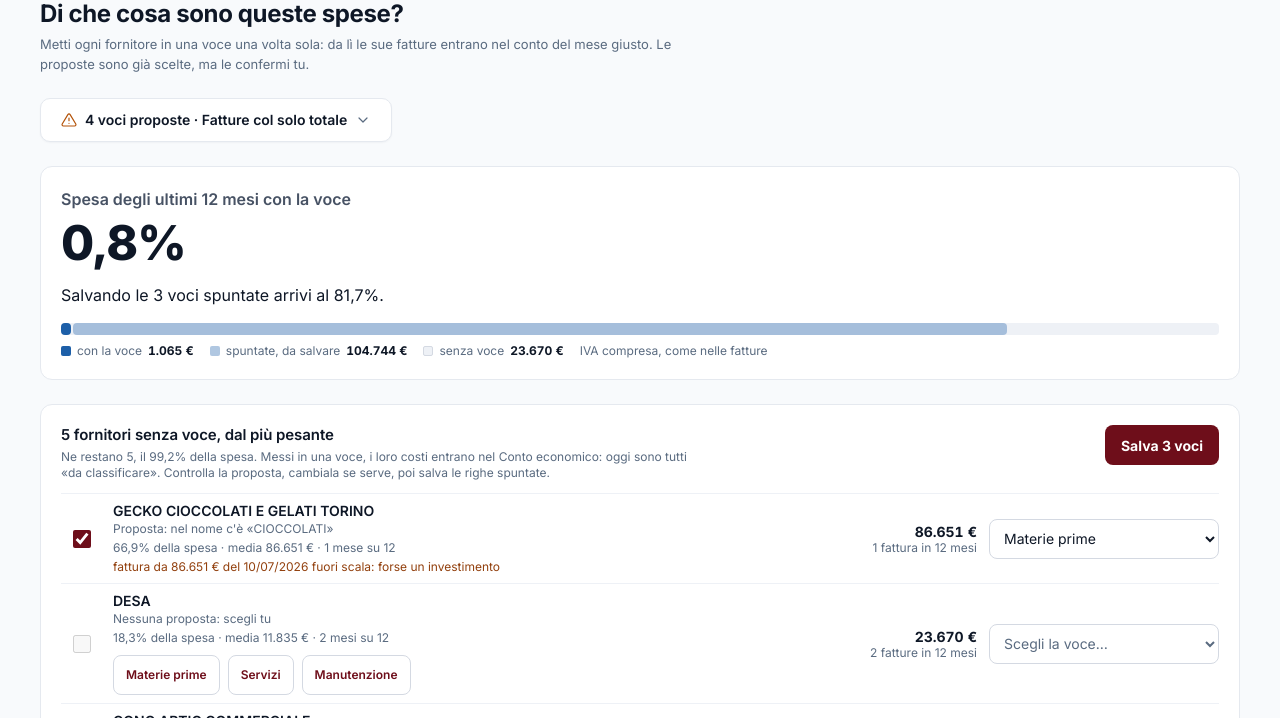
Test: ClassificaSpese: i fornitori senza voce › salva le voci spuntate: prima nell'archivio, poi lo schermo
Select "Materie prime" in the dropdown named "Voce di spesa di DESA SRL" at (1104, 644), box [989,624,1219,664]
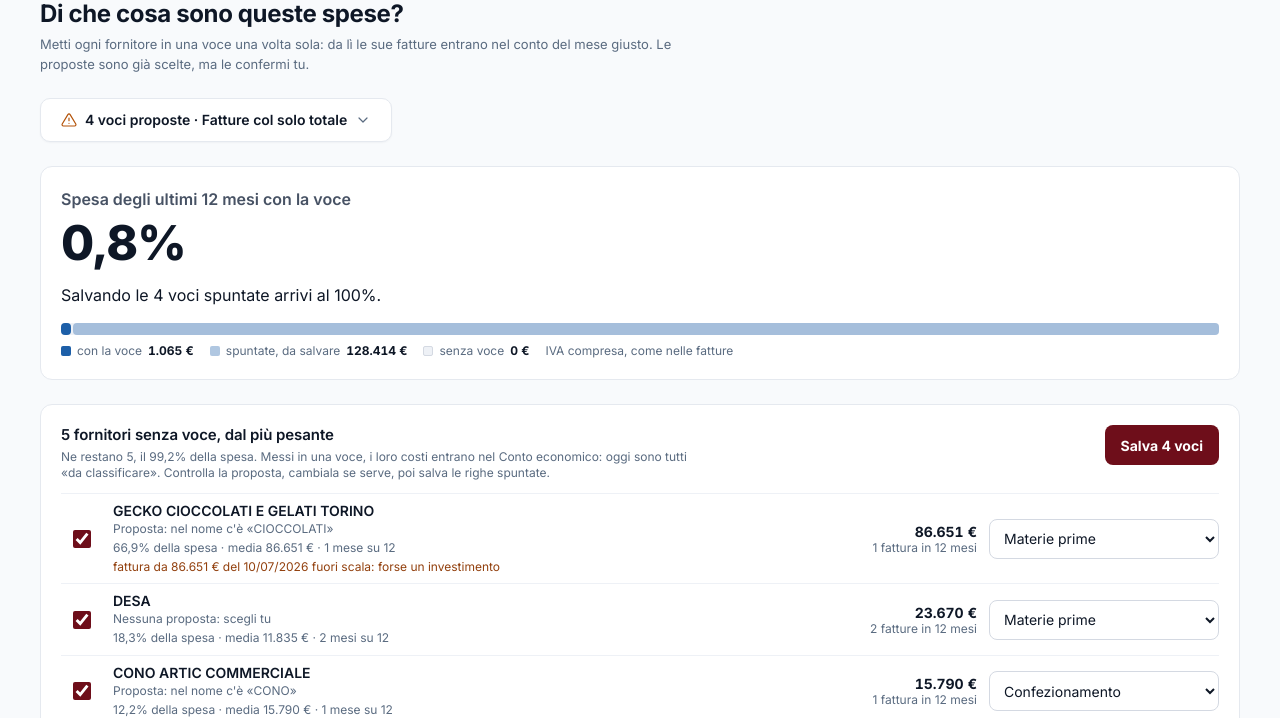
expect the checkbox named "Conferma la voce di DESA SRL" is checked: met, box [72,611,90,629]
Click the button "Salva 4 voci" at (1162, 445), box [1104,425,1219,465]
(page scrolled)
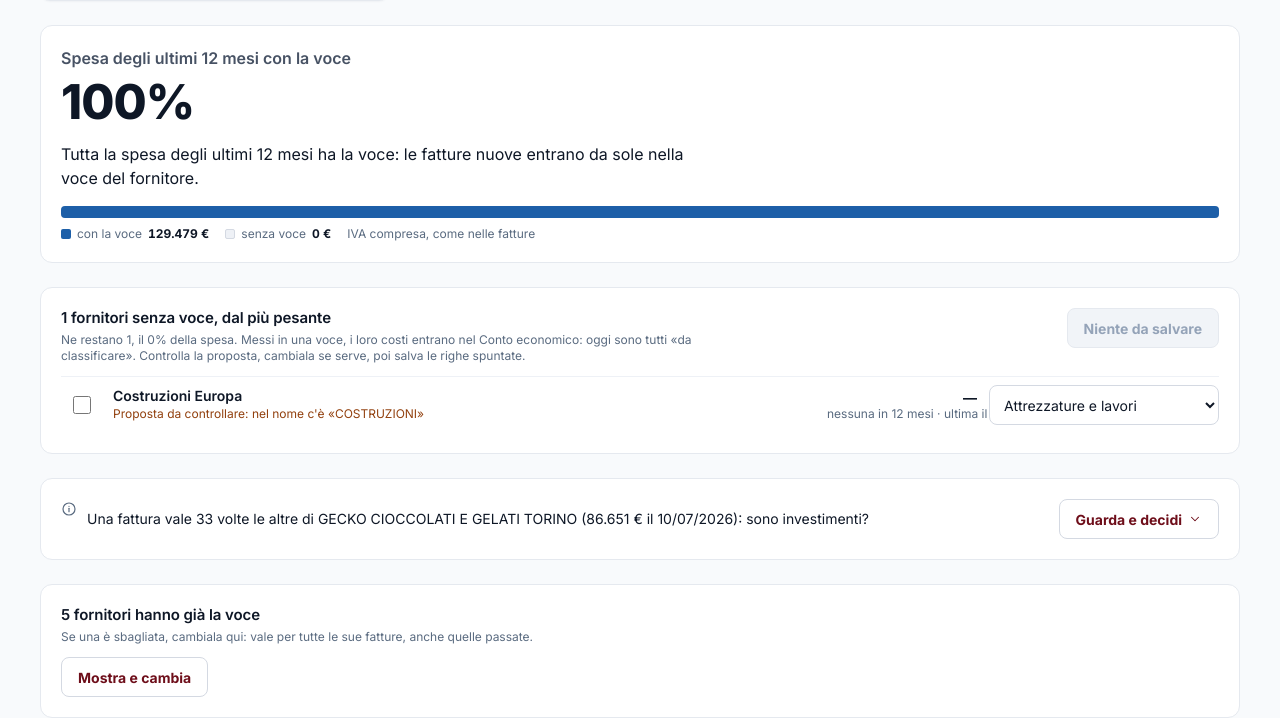
expect the number of list items is 1: met, box [61,376,1219,433]
expect the heading "5 fornitori hanno già la voce" is shown: met, box [61,605,260,624]
